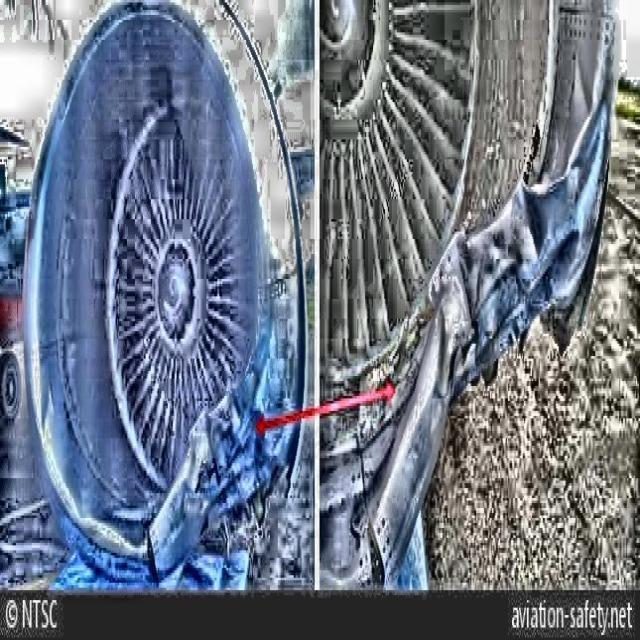dent: (570, 49, 606, 163), (511, 181, 552, 263)
